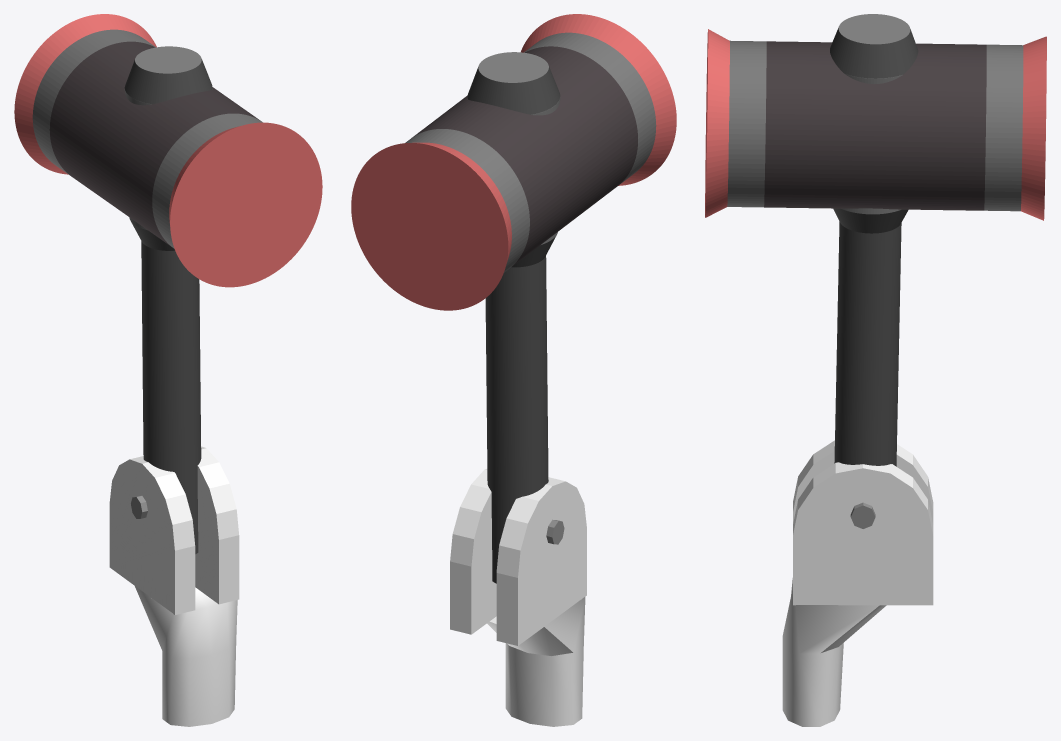
Rendered from cekic.fbx.
3 views of the same model, side by side, from view 1: azimuth 30°, elevation 25°; view 2: azimuth 150°, elevation 25°; view 3: azimuth 270°, elevation 25° (orthographic). The views are drawn at different scales.
Visible parts, largest first — view 1: Cylinder.002, Pillar, Cylinder; view 2: Cylinder.002, Pillar, Cylinder; view 3: Cylinder.002, Pillar, Cylinder.
Part boxes in pixels (x1,y1,x2,y2): Cylinder.002: (14,14,322,287); Pillar: (109,446,239,726); Cylinder: (124,46,212,554); Cylinder.002: (351,14,676,310); Pillar: (450,469,586,726); Cylinder: (467,52,560,583); Cylinder.002: (705,29,1046,220); Pillar: (782,440,933,726); Cylinder: (830,14,918,466).
Size of what is drawn, in the model's own units: 258 by 1024 by 466.
